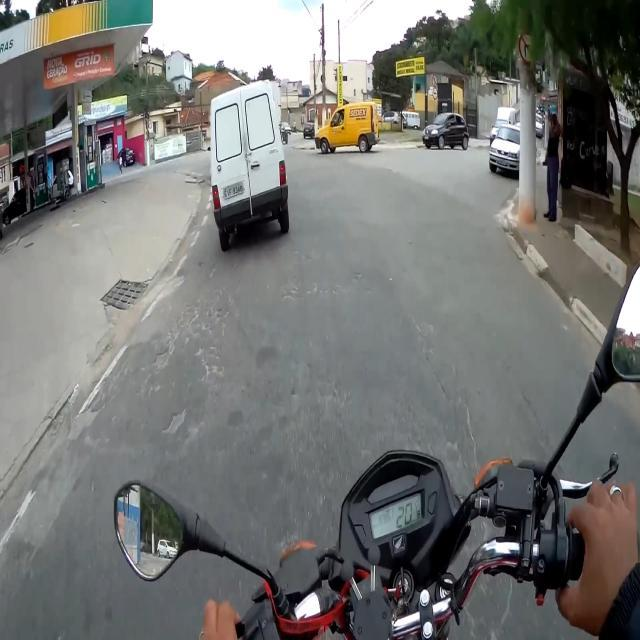Placa_mercosul_carro: (221, 181, 245, 201)
